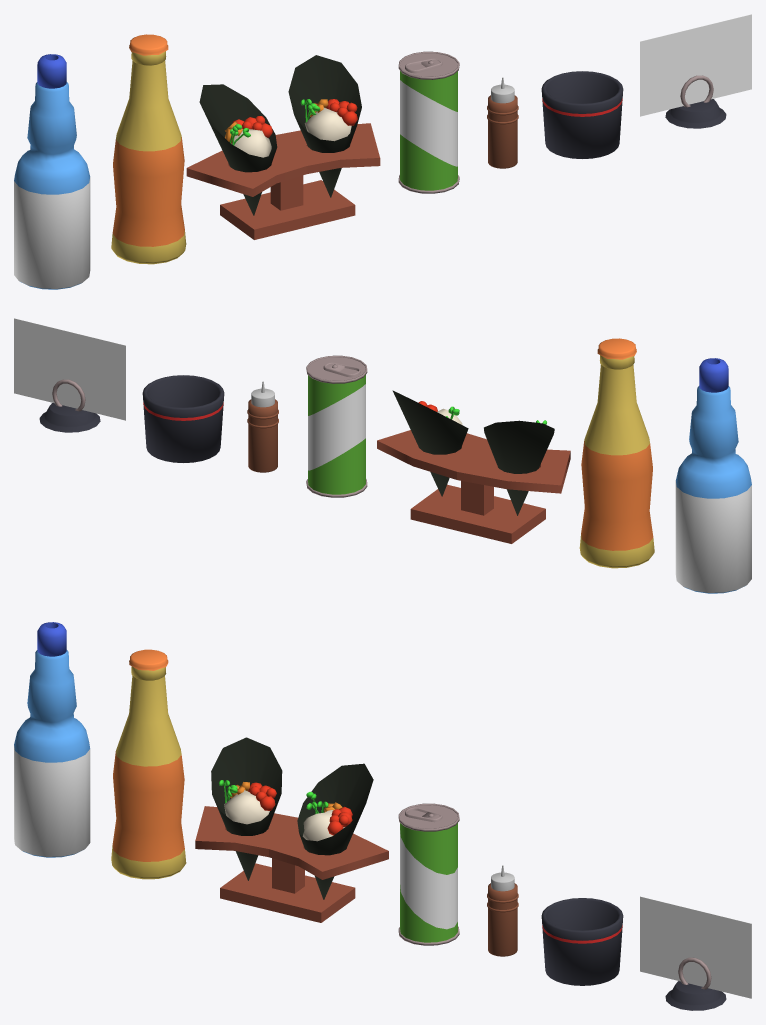
Rendered from obj0603_obstacle.fbx.
3 renders of one model, top to bottom at view 1: azimuth 30°, elevation 25°; view 2: azimuth 150°, elevation 25°; view 3: azimuth 330°, elevation 25°, orthographic.
Parts seen in each view (by area): view 1: demaki, ramune, bottle, sign, can, miso, sauce; view 2: demaki, ramune, bottle, sign, can, miso, sauce; view 3: demaki, ramune, bottle, sign, can, miso, sauce.
Part boxes in pixels (<box>): demaki: <box>186,55,380,239</box>; ramune: <box>14,54,90,289</box>; bottle: <box>111,34,186,264</box>; sign: <box>640,14,751,128</box>; can: <box>398,51,459,193</box>; miso: <box>541,71,623,158</box>; sauce: <box>487,77,518,168</box>; demaki: <box>377,390,570,543</box>; ramune: <box>675,358,751,593</box>; bottle: <box>579,338,654,568</box>; sign: <box>14,318,125,432</box>; can: <box>306,355,367,497</box>; miso: <box>142,375,224,462</box>; sauce: <box>247,381,278,472</box>; demaki: <box>195,737,388,922</box>; ramune: <box>14,622,90,857</box>; bottle: <box>111,649,186,879</box>; sign: <box>640,896,751,1010</box>; can: <box>398,803,459,945</box>; miso: <box>541,898,623,985</box>; sauce: <box>487,865,518,956</box>.
Size of the model in its own units: 6.24 by 1.77 by 0.7832.
